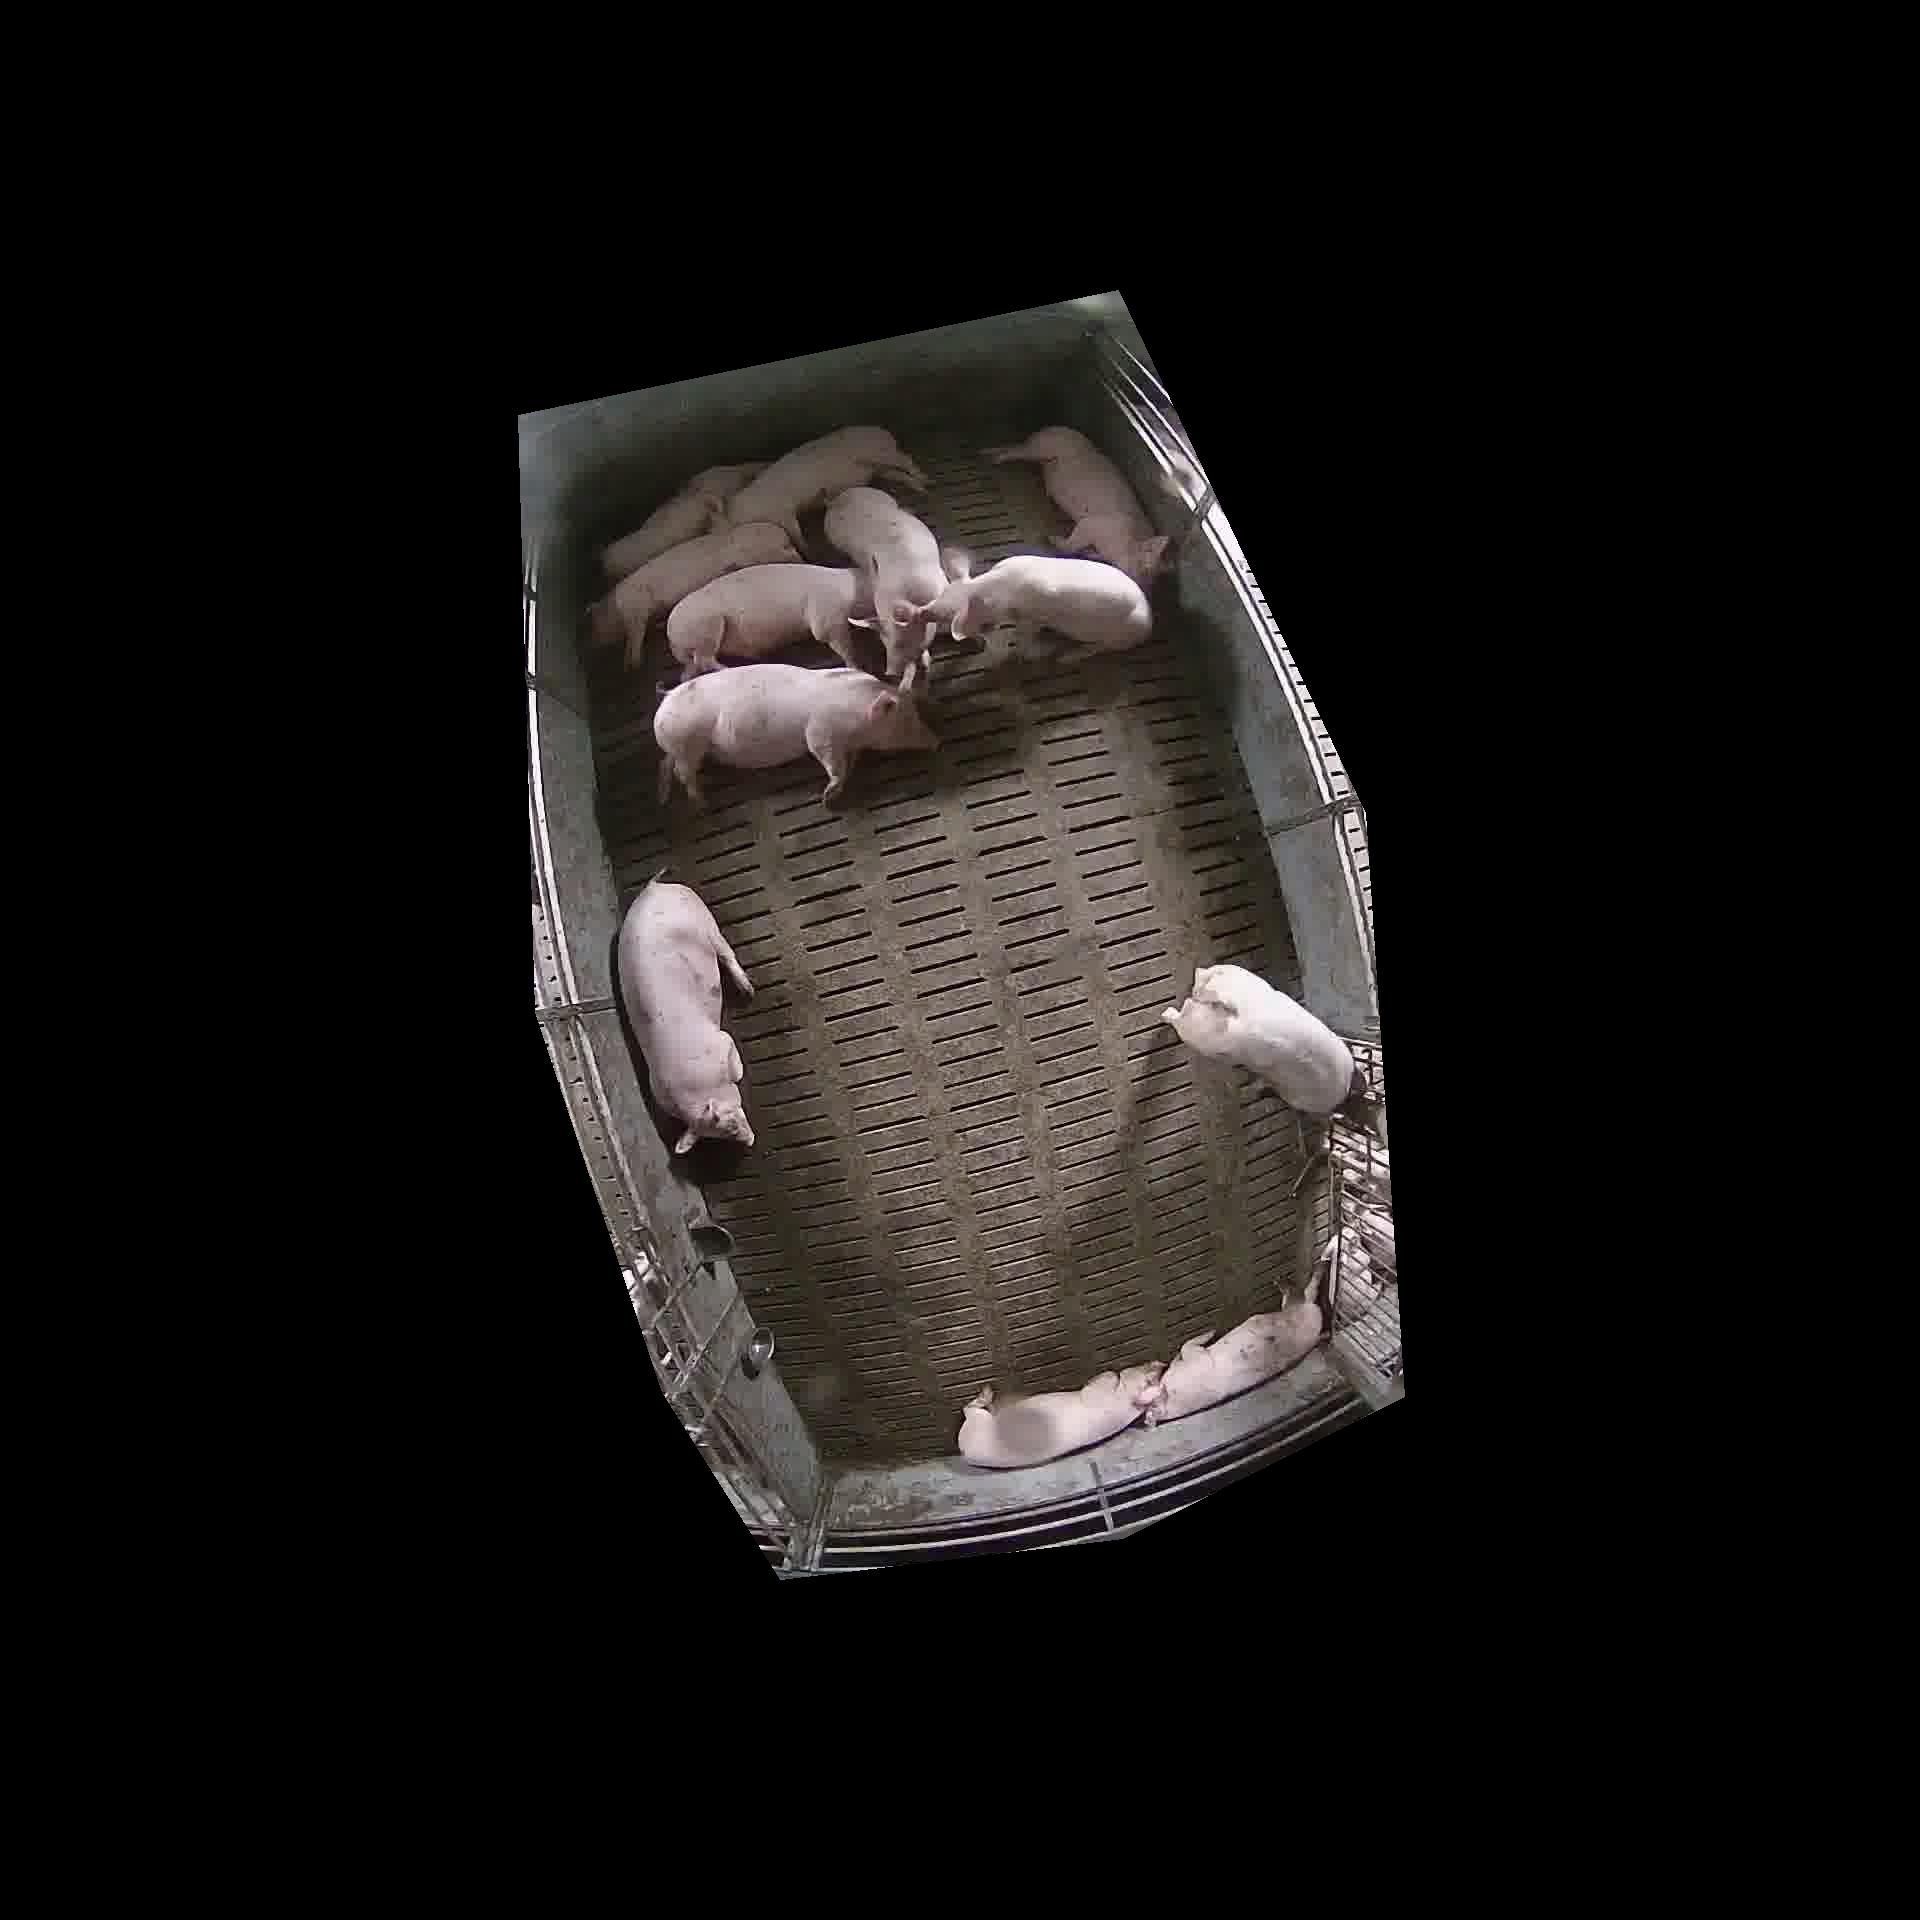pig: (654, 665, 937, 805), (617, 879, 753, 1152), (589, 522, 800, 666), (1162, 964, 1354, 1115), (986, 425, 1167, 584), (916, 543, 1152, 658), (823, 487, 946, 689), (726, 425, 927, 549), (666, 563, 872, 679), (1145, 1298, 1322, 1422), (958, 1363, 1162, 1466), (601, 462, 763, 578)
